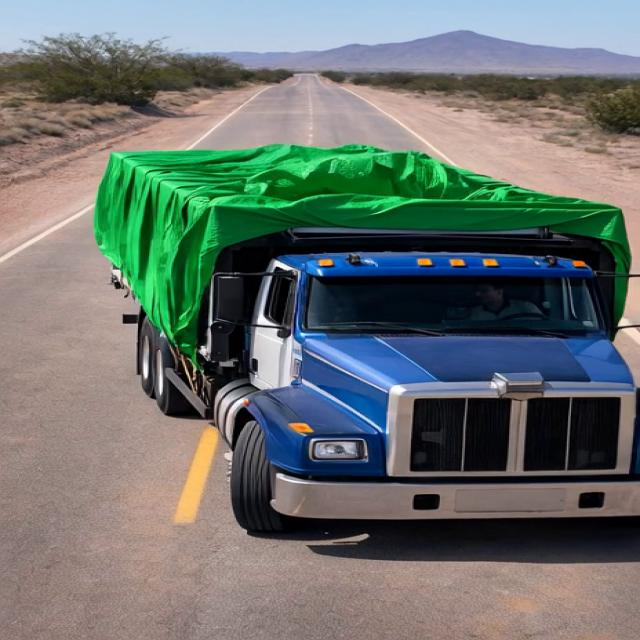trailer: (96, 130, 622, 235)
truck: (53, 91, 638, 535)
